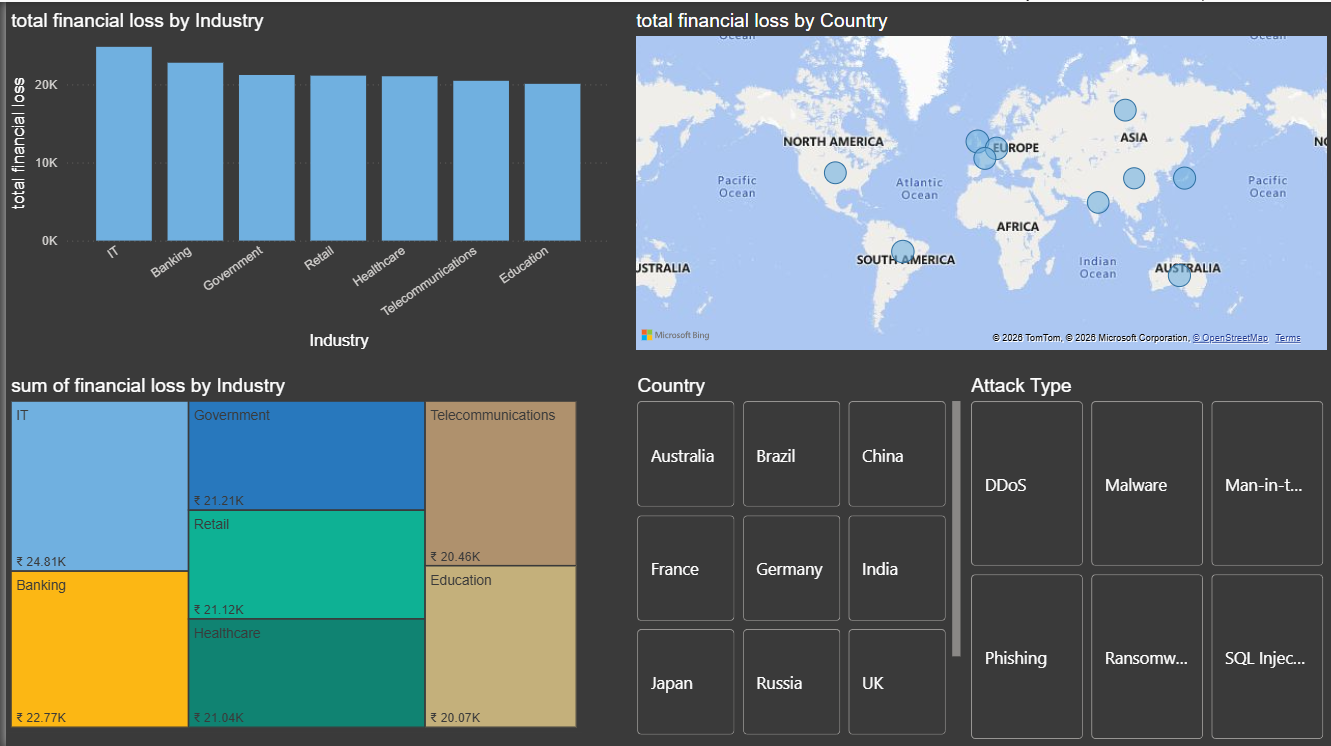

Layout of this report page (visuals, bound fields, positions):
{"tool":"powerbi","page":{"name":"Page 2","canvas":[1280,720],"ordinal":1},"visuals":[{"type":"advancedSlicerVisual","fields":{"Values":["Global_Cybersecurity_Threats_20.Attack Type"]},"box":[927.1,360,352.9,358.6],"z":0},{"type":"advancedSlicerVisual","fields":{"Values":["Global_Cybersecurity_Threats_20.Country"]},"box":[604.3,360,322.9,355.7],"z":1000},{"type":"columnChart","fields":{"Category":["Global_Cybersecurity_Threats_20.Industry"],"Y":["Global_Cybersecurity_Threats_20.total financial loss"]},"box":[0,7.1,588.6,332.9],"z":2000},{"type":"treemap","fields":{"Group":["Global_Cybersecurity_Threats_20.Industry"],"Values":["Global_Cybersecurity_Threats_20.sum of financial loss"]},"box":[0,360,555.7,345.7],"z":3000},{"type":"map","fields":{"Category":["Global_Cybersecurity_Threats_20.Country"],"Size":["Global_Cybersecurity_Threats_20.total financial loss"]},"box":[603.8,6.9,676.5,333.4],"z":4000}]}

Visuals, with their boxes in screenshot pixels (x1, y1, x2, y2), scaled from the page's 1280x720 canvas onto the 1331x746 screenshot:
advancedSlicerVisual - Global_Cybersecurity_Threats_20.Attack Type: locate(964, 373, 1330, 745)
advancedSlicerVisual - Global_Cybersecurity_Threats_20.Country: locate(628, 373, 964, 742)
columnChart - Global_Cybersecurity_Threats_20.Industry x Global_Cybersecurity_Threats_20.total financial loss: locate(0, 7, 612, 352)
treemap - Global_Cybersecurity_Threats_20.Industry x Global_Cybersecurity_Threats_20.sum of financial loss: locate(0, 373, 578, 731)
map - Global_Cybersecurity_Threats_20.Country x Global_Cybersecurity_Threats_20.total financial loss: locate(628, 7, 1330, 353)
